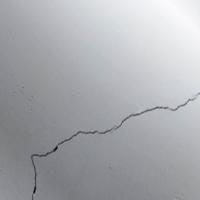crack: (20, 85, 199, 199)
